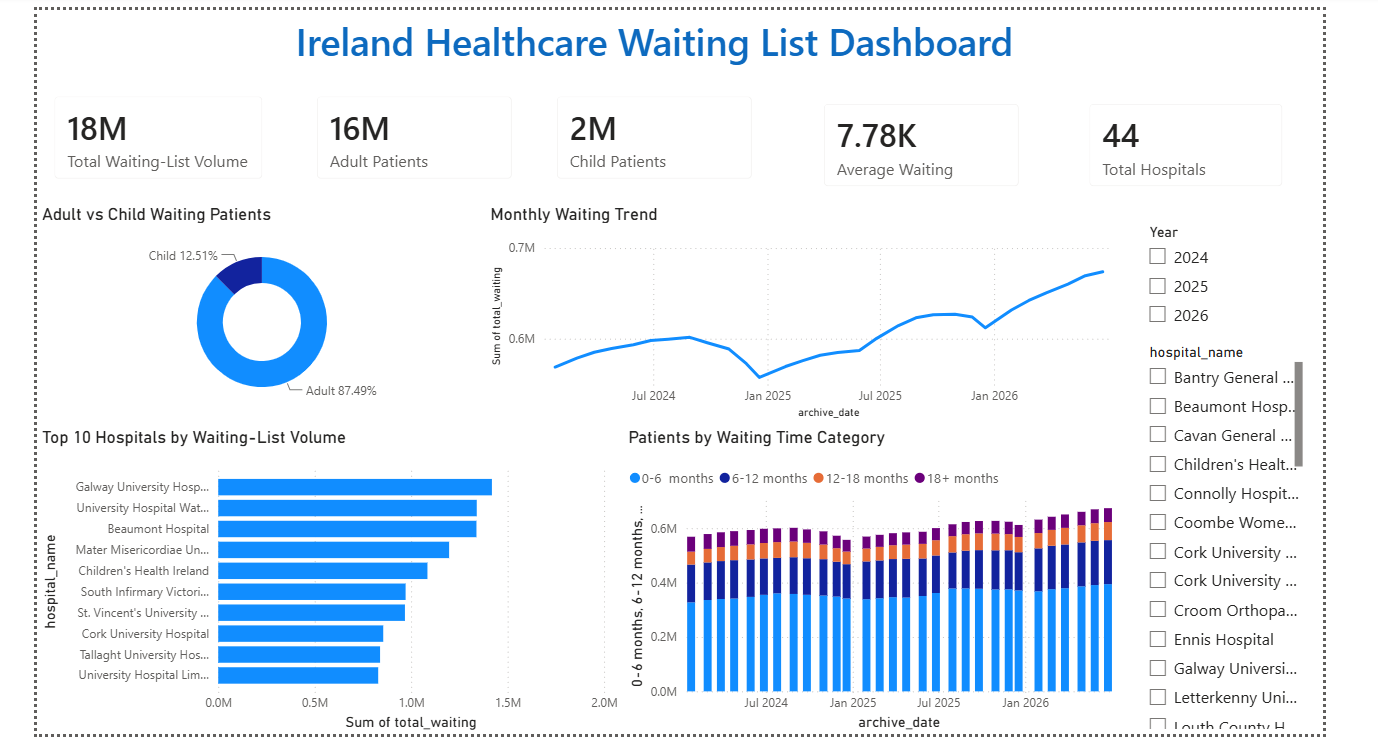

What the dashboard file says about the page in this screenshot:
{"tool":"powerbi","page":{"name":"Page 1","canvas":[1280,720],"ordinal":0},"visuals":[{"type":"cardVisual","fields":{"Data":["public waiting_list.Total Hospitals"]},"box":[1029.8,76.1,226,116],"z":0},{"type":"cardVisual","fields":{"Data":["public waiting_list.Child Patients"]},"box":[500.3,68,228,116],"z":1000},{"type":"cardVisual","fields":{"Data":["public waiting_list.Adult Patients"]},"box":[260.7,68,228,116],"z":2000},{"type":"cardVisual","fields":{"Data":["public waiting_list.Average Waiting Patients"]},"box":[765.9,76.1,228,116],"z":3000},{"type":"lineChart","title":"Monthly Waiting Trend","fields":{"Category":["public waiting_list.archive_date"],"Y":["Sum(public waiting_list.total_waiting)"]},"box":[446.9,192.7,642.8,218.6],"z":4000},{"type":"clusteredBarChart","title":"Top 10 Hospitals by Waiting Patients","fields":{"Category":["public waiting_list.hospital_name"],"Y":["Sum(public waiting_list.total_waiting)"]},"box":[0,414.5,582.9,306],"z":5000},{"type":"donutChart","title":"Adult vs Child Waiting Patients","fields":{"Category":["public waiting_list.adult_child"],"Y":["Sum(public waiting_list.total_waiting)"]},"box":[0,192.7,446.9,205.6],"z":6000},{"type":"columnChart","title":"Patients by Waiting Time Category","fields":{"Category":["public waiting_list.archive_date"],"Y":["Sum(public waiting_list.wait_0_6_months)","Sum(public waiting_list.wait_6_12_months)","Sum(public waiting_list.wait_12_18_months)","Sum(public waiting_list.wait_18_plus_months)"]},"box":[582.9,414.5,511.7,306],"z":7000},{"type":"slicer","fields":{"Values":["public waiting_list.archive_date.Variation.Date Hierarchy.Year"]},"box":[1094.6,207.3,171,120],"z":8000},{"type":"slicer","fields":{"Values":["public waiting_list.hospital_name"]},"box":[1094,327.1,170,393],"z":9000},{"type":"textbox","box":[173.3,0,882.5,79.3],"z":10000},{"type":"cardVisual","fields":{"Data":["Sum(public waiting_list.total_waiting)"]},"box":[13,68,228.3,116.6],"z":11000}]}

Visuals, with their boxes on the page's 1280x720 design canvas (x1, y1, x2, y2). These are canvas units, not pixel positions in the 1378x741 screenshot, which may show the page scaled, cropped or inside an application window:
cardVisual - public waiting_list.Total Hospitals: <bbox>1030, 76, 1256, 192</bbox>
cardVisual - public waiting_list.Child Patients: <bbox>500, 68, 728, 184</bbox>
cardVisual - public waiting_list.Adult Patients: <bbox>261, 68, 489, 184</bbox>
cardVisual - public waiting_list.Average Waiting Patients: <bbox>766, 76, 994, 192</bbox>
"Monthly Waiting Trend" lineChart: <bbox>447, 193, 1090, 411</bbox>
"Top 10 Hospitals by Waiting Patients" clusteredBarChart: <bbox>0, 414, 583, 720</bbox>
"Adult vs Child Waiting Patients" donutChart: <bbox>0, 193, 447, 398</bbox>
"Patients by Waiting Time Category" columnChart: <bbox>583, 414, 1095, 720</bbox>
slicer - public waiting_list.archive_date.Variation.Date Hierarchy.Year: <bbox>1095, 207, 1266, 327</bbox>
slicer - public waiting_list.hospital_name: <bbox>1094, 327, 1264, 720</bbox>
textbox: <bbox>173, 0, 1056, 79</bbox>
cardVisual - Sum(public waiting_list.total_waiting): <bbox>13, 68, 241, 185</bbox>
